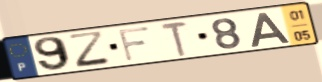8: (210, 17, 243, 50)
9: (33, 35, 74, 73)
A: (250, 11, 292, 48)
F: (116, 25, 153, 64)
T: (159, 20, 191, 58)
Z: (66, 29, 115, 70)
